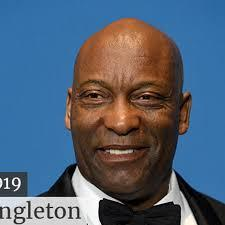normalEye: (69, 74, 174, 117)
normalMouth: (91, 138, 159, 163)
